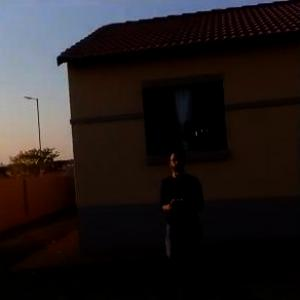follow: (150, 143, 210, 299)
